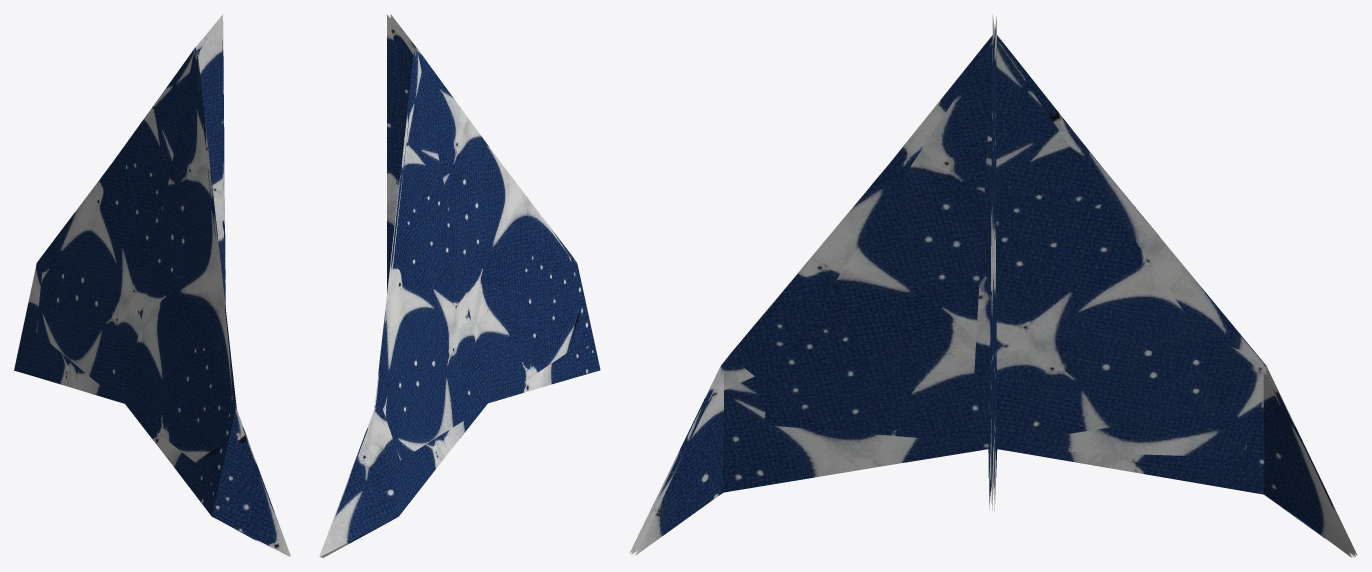
3 views of the same model, side by side, from view 1: azimuth 30°, elevation 25°; view 2: azimuth 150°, elevation 25°; view 3: azimuth 270°, elevation 25° (orthographic). The views are drawn at different scales.
Parts seen in each view (by area): view 1: Origami_Model_73.001; view 2: Origami_Model_73.001; view 3: Origami_Model_73.001.
Boxes of the visible parts, x1=… form: Origami_Model_73.001: x1=14, y1=14, x2=290, y2=557; Origami_Model_73.001: x1=319, y1=14, x2=600, y2=557; Origami_Model_73.001: x1=629, y1=15, x2=1357, y2=557.
Size of the model in its own units: 0.0324 by 0.118 by 0.1328.
Materials: 1 (1 with a texture image).
